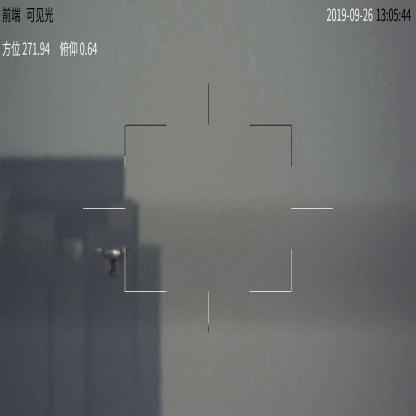uav: (93, 243, 131, 277)
